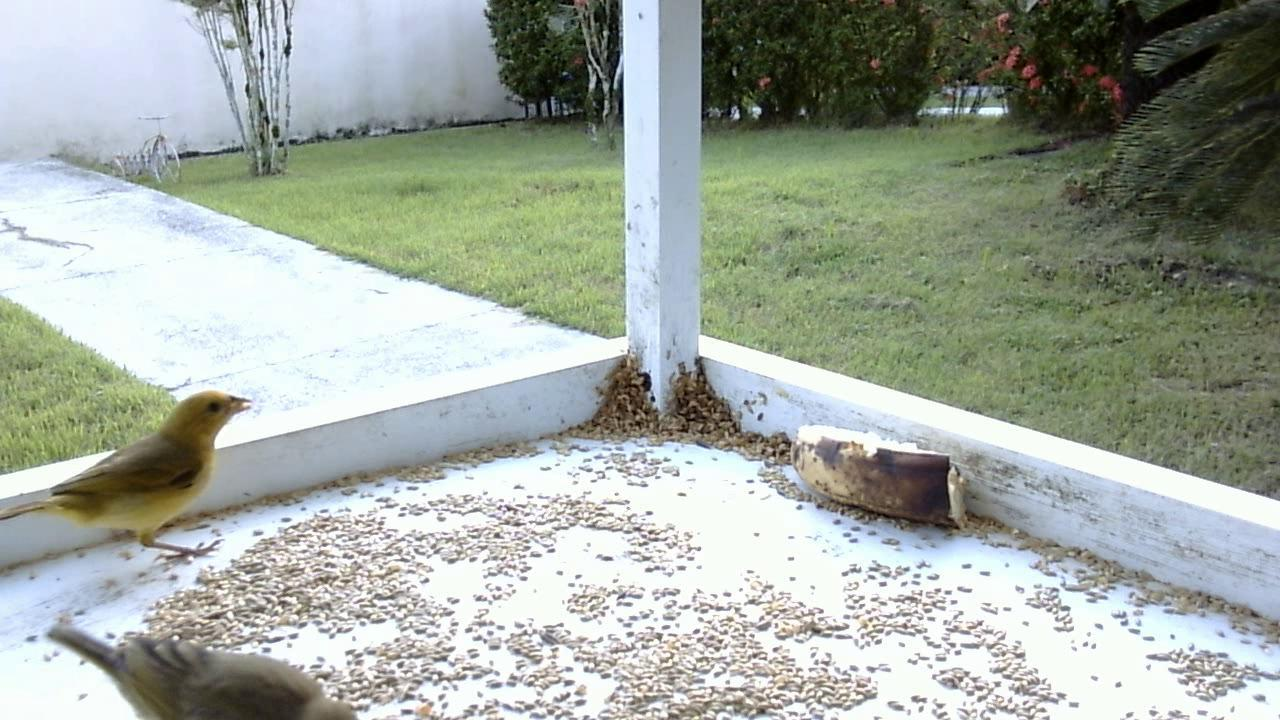canario_do_amazonas: (3, 379, 264, 579), (40, 608, 372, 716)
